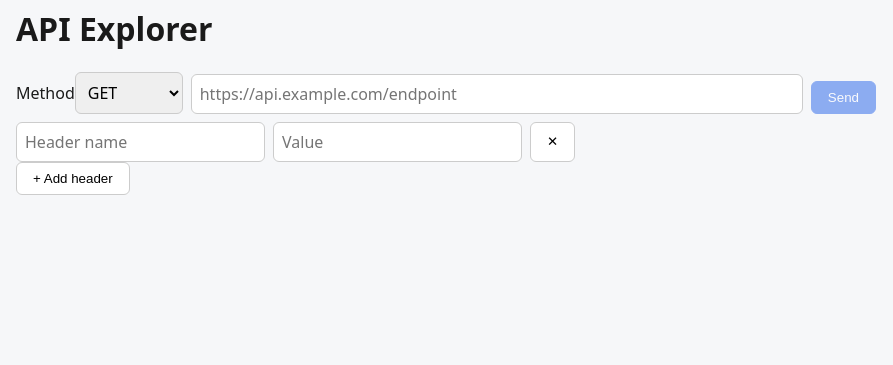
Test: App › renders the error panel on proxy failure
This screenshot has width=893, height=365.
Type "https://api.test/x" into the field with placeholder "https://api.example.com/endpoint" at x=497, y=94, box top-left (191, 74), bottom-right (803, 114)
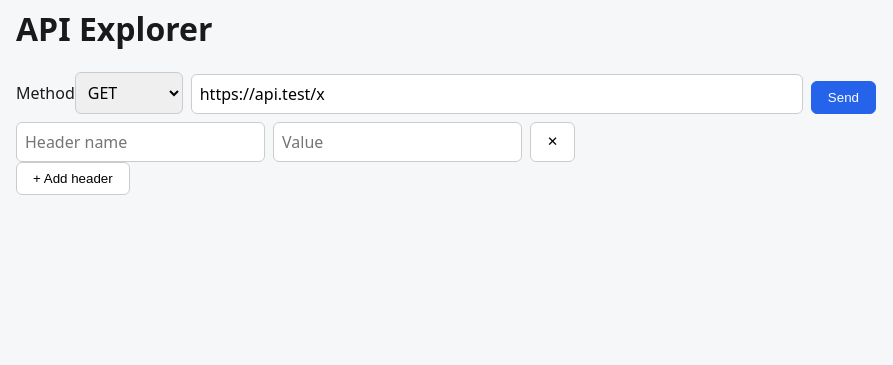
Click the button "Send" at x=843, y=97, box top-left (811, 81), bottom-right (876, 114)
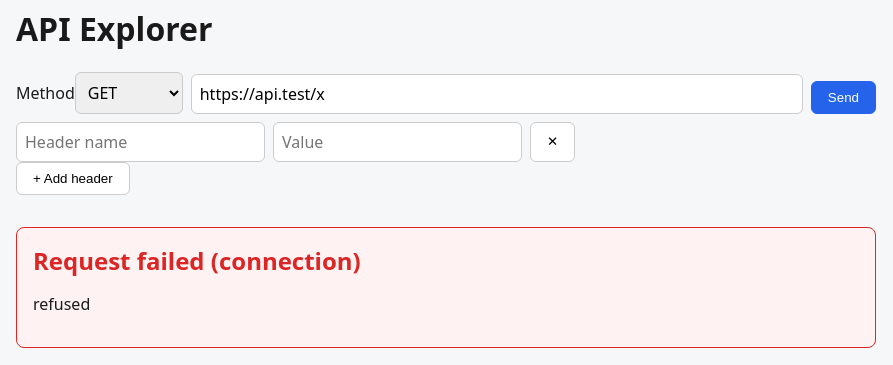
Check: the heading "Request failed (connection)" is shown, box top-left (33, 244), bottom-right (361, 277)
